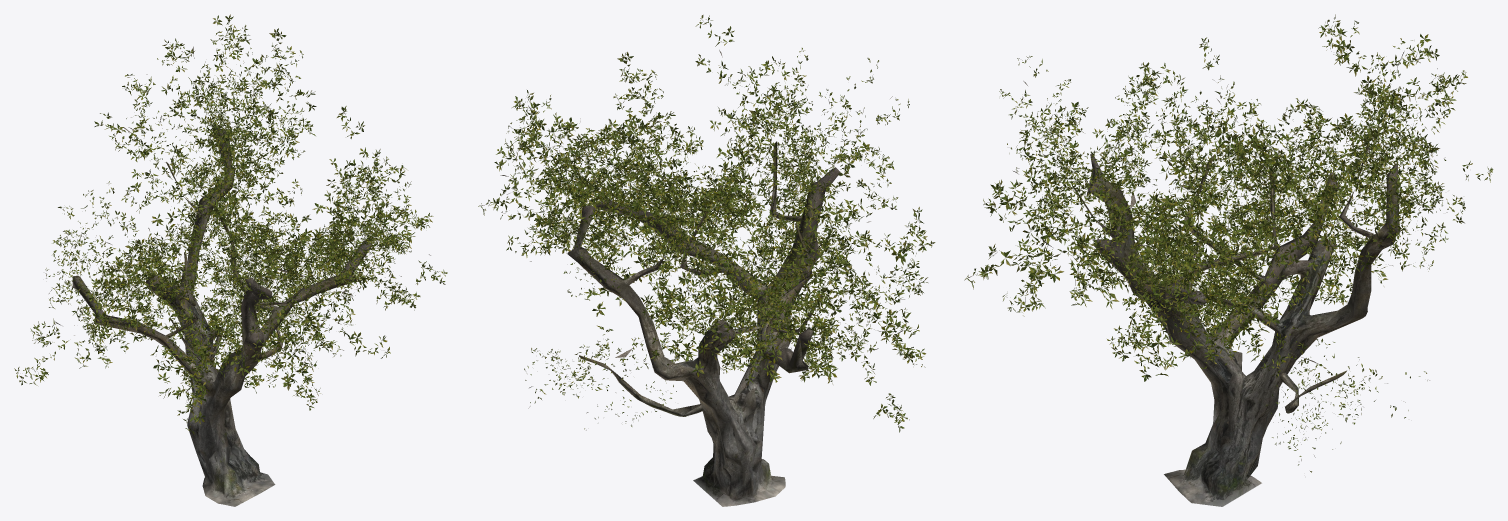
The model's file is island_tree_01.glb.
3 renders of one model, left to right at view 1: azimuth 30°, elevation 25°; view 2: azimuth 150°, elevation 25°; view 3: azimuth 270°, elevation 25°, orthographic. The views are drawn at different scales.
Parts seen in each view (by area): view 1: island_tree_01_LOD0; view 2: island_tree_01_LOD0; view 3: island_tree_01_LOD0.
Part boxes in pixels (bbox=[...]): island_tree_01_LOD0: bbox=[14, 14, 447, 506]; island_tree_01_LOD0: bbox=[478, 15, 935, 506]; island_tree_01_LOD0: bbox=[964, 14, 1493, 506].
Bounding box in the file's own units: 4.74 × 5.02 × 4.81.
Materials: 3 (3 with a texture image).
